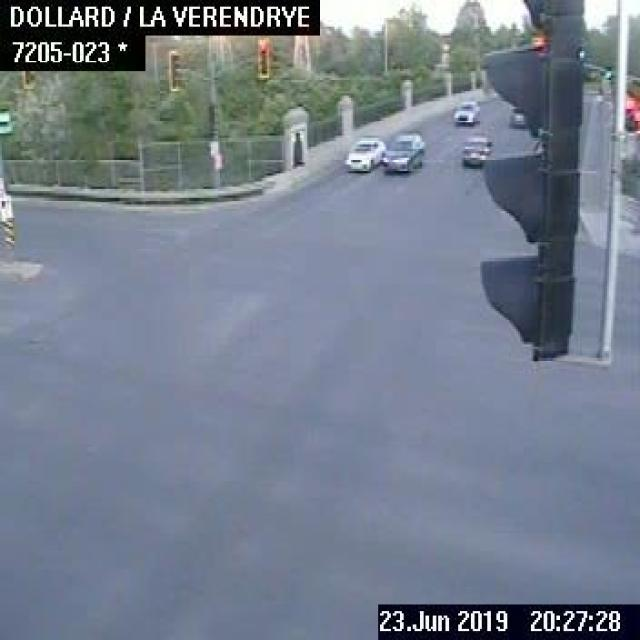vehicle: (381, 130, 426, 174), (342, 129, 377, 175), (460, 129, 493, 167), (451, 98, 479, 126), (504, 107, 526, 129)
